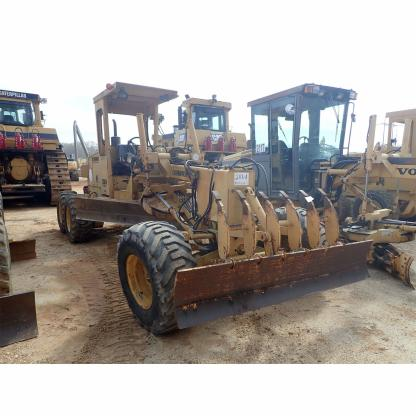bull_dozer/loader/grader: (45, 74, 388, 327)
